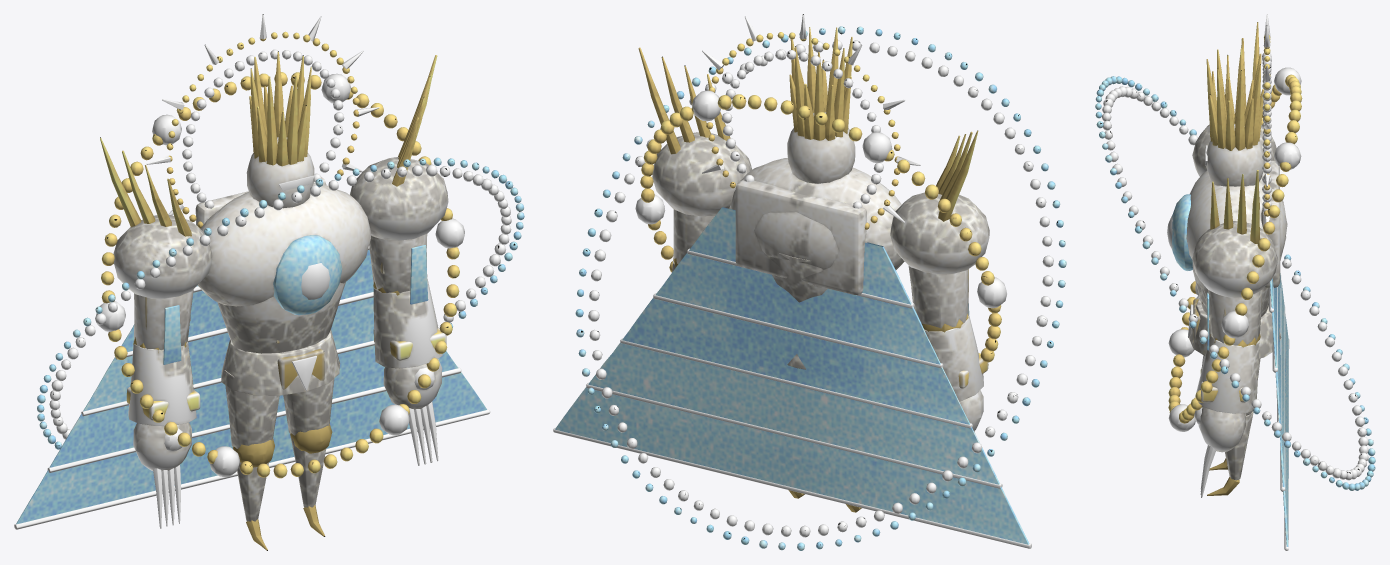
The model's file is Astraeon.glb.
3 views of the same model, side by side, from view 1: azimuth 30°, elevation 25°; view 2: azimuth 150°, elevation 25°; view 3: azimuth 270°, elevation 25° (orthographic). The views are drawn at different scales.
Parts seen in each view (by area): view 1: Astraeon_spine, Astraeon_cape5, Astraeon_ringA, Astraeon_upperArmR, Astraeon_upperArmL, Astraeon_ringB, Astraeon_cape4, Astraeon_head, Astraeon_lowerArmL, Astraeon_halo, Astraeon_lowerArmR, Astraeon_cape3 (+8 smaller); view 2: Astraeon_cape5, Astraeon_cape4, Astraeon_cape3, Astraeon_spine, Astraeon_cape2, Astraeon_ringB, Astraeon_upperArmR, Astraeon_upperArmL, Astraeon_ringA, Astraeon_head, Astraeon_halo, Astraeon_cape1 (+1 smaller); view 3: Astraeon_ringB, Astraeon_upperArmL, Astraeon_ringA, Astraeon_head, Astraeon_spine, Astraeon_lowerArmL, Astraeon_handL, Astraeon_halo, Astraeon_upperArmR, Astraeon_hips, Astraeon_cape4, Astraeon_cape5 (+3 smaller).
Part boxes in pixels (x1=…): Astraeon_spine: x1=195, y1=177, x2=371, y2=353; Astraeon_cape5: x1=14, y1=372, x2=490, y2=529; Astraeon_ringA: x1=96, y1=72, x2=464, y2=478; Astraeon_upperArmR: x1=100, y1=137, x2=212, y2=352; Astraeon_upperArmL: x1=350, y1=55, x2=448, y2=295; Astraeon_ringB: x1=37, y1=157, x2=524, y2=449; Astraeon_cape4: x1=47, y1=345, x2=461, y2=472; Astraeon_head: x1=246, y1=51, x2=314, y2=208; Astraeon_lowerArmL: x1=373, y1=245, x2=446, y2=368; Astraeon_halo: x1=146, y1=14, x2=379, y2=228; Astraeon_lowerArmR: x1=126, y1=305, x2=200, y2=425; Astraeon_cape3: x1=81, y1=297, x2=374, y2=416; Astraeon_cape5: x1=553, y1=387, x2=1031, y2=548; Astraeon_cape4: x1=586, y1=342, x2=1002, y2=488; Astraeon_cape3: x1=620, y1=297, x2=972, y2=428; Astraeon_spine: x1=729, y1=158, x2=904, y2=302; Astraeon_cape2: x1=653, y1=253, x2=943, y2=368; Astraeon_ringB: x1=575, y1=26, x2=1066, y2=550; Astraeon_upperArmR: x1=890, y1=130, x2=989, y2=332; Astraeon_upperArmL: x1=638, y1=47, x2=752, y2=267; Astraeon_ringA: x1=635, y1=90, x2=1006, y2=365; Astraeon_head: x1=787, y1=27, x2=855, y2=183; Astraeon_halo: x1=691, y1=14, x2=920, y2=229; Astraeon_cape1: x1=687, y1=207, x2=914, y2=308; Astraeon_ringB: x1=1095, y1=76, x2=1375, y2=490; Astraeon_upperArmL: x1=1192, y1=170, x2=1277, y2=347; Astraeon_ringA: x1=1168, y1=67, x2=1302, y2=431; Astraeon_head: x1=1205, y1=47, x2=1264, y2=186; Astraeon_spine: x1=1167, y1=160, x2=1287, y2=317; Astraeon_lowerArmL: x1=1196, y1=292, x2=1259, y2=413; Astraeon_handL: x1=1194, y1=406, x2=1245, y2=497; Astraeon_halo: x1=1262, y1=14, x2=1271, y2=223; Astraeon_upperArmR: x1=1192, y1=22, x2=1276, y2=176; Astraeon_hips: x1=1188, y1=298, x2=1281, y2=358; Astraeon_cape4: x1=1280, y1=280, x2=1285, y2=491; Astraeon_cape5: x1=1283, y1=314, x2=1289, y2=550.
Bounding box in the file's own units: 5.31 × 5.41 × 3.
1 material, 1 textured.
